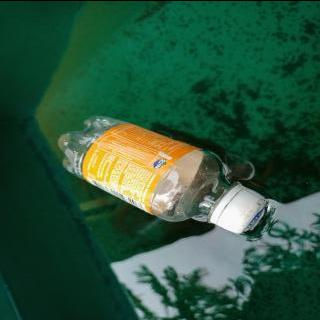bottle: (56, 113, 272, 234)
